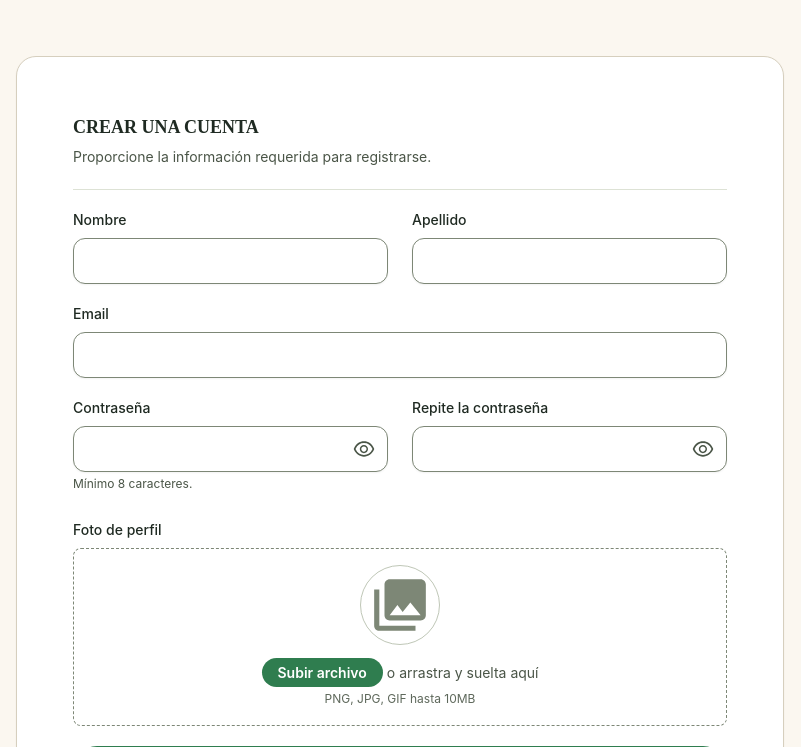
Test case: Registration › announces the fallback message for an unexpected error
The image size is (801, 747).
Step 1. Type "Ana" into the field labelled "Nombre" → (230, 261), box [73,238,388,284]
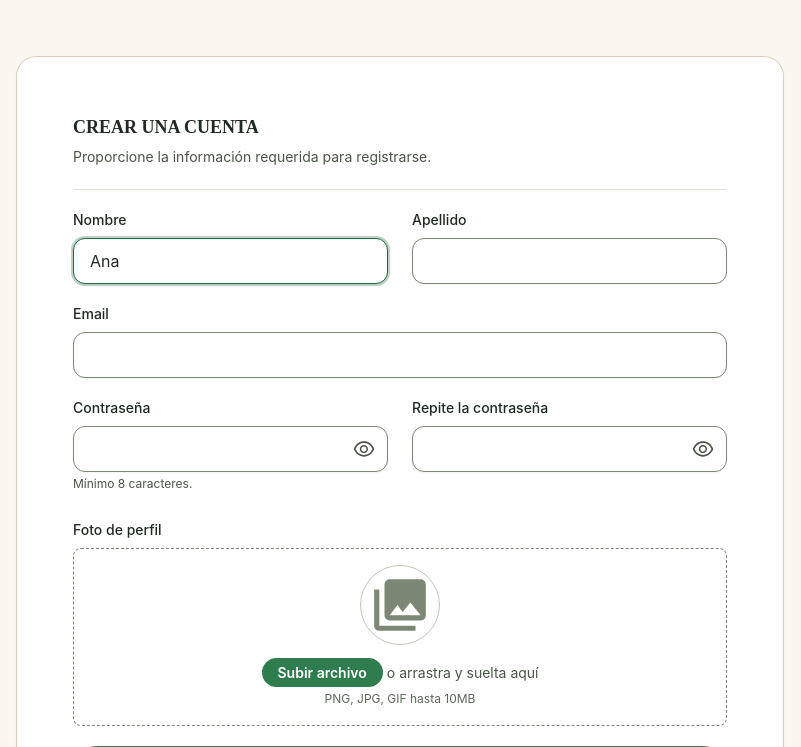
Step 2. Type "Pérez" into the field labelled "Apellido" → (570, 261), box [412,238,727,284]
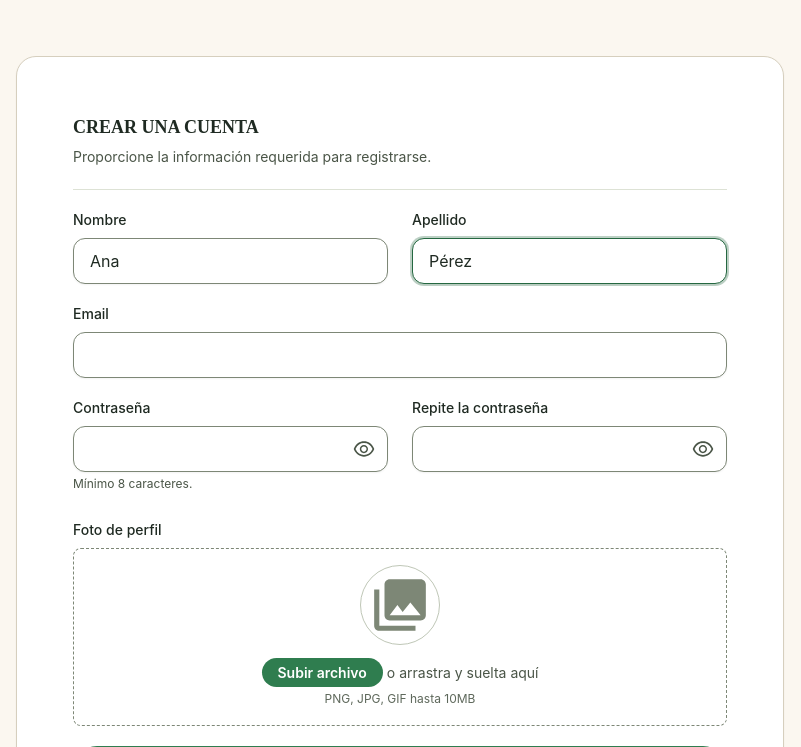
Step 3. Type "ana@example.com" into the field labelled "Email" → (400, 355), box [73,332,727,378]
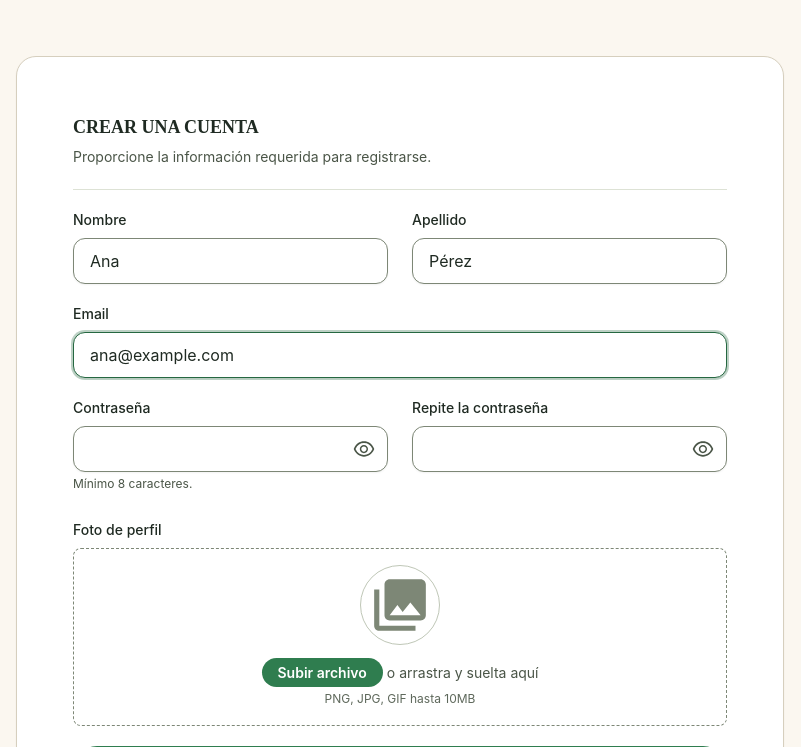
Step 4. Type "secret123" into the password field labelled "Contraseña" → (230, 449), box [73,426,388,472]
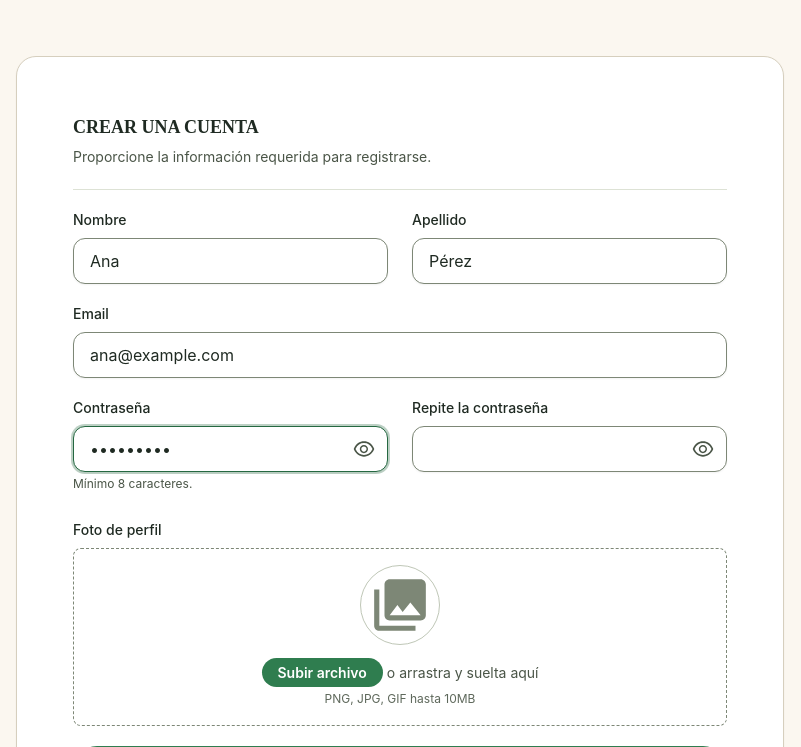
Step 5. Type "secret123" into the password field labelled "Repite la contraseña" → (570, 449), box [412,426,727,472]
(page scrolled)
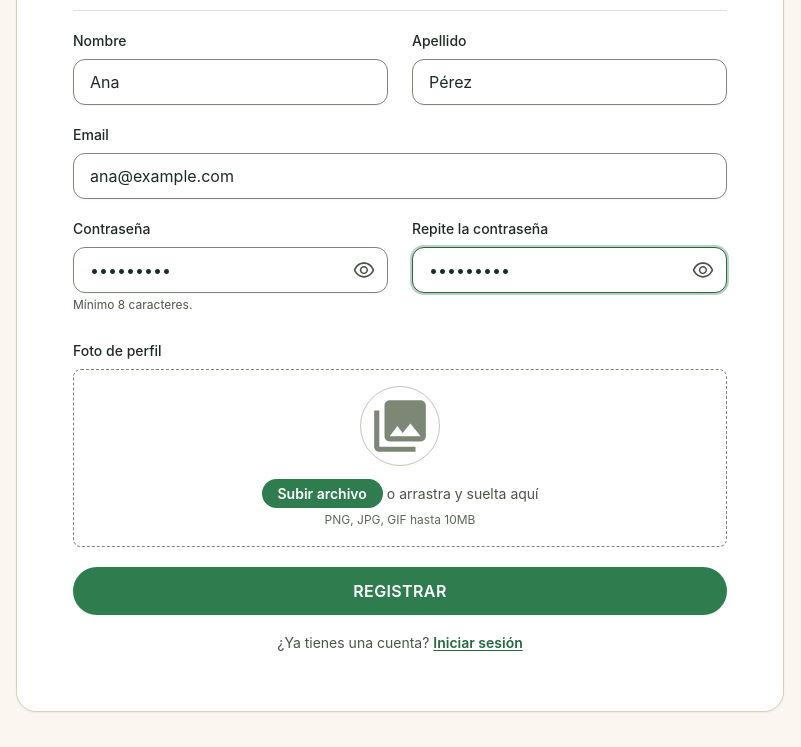
Step 6. Click the button "Registrar" → click(400, 591), box [73,567,727,615]
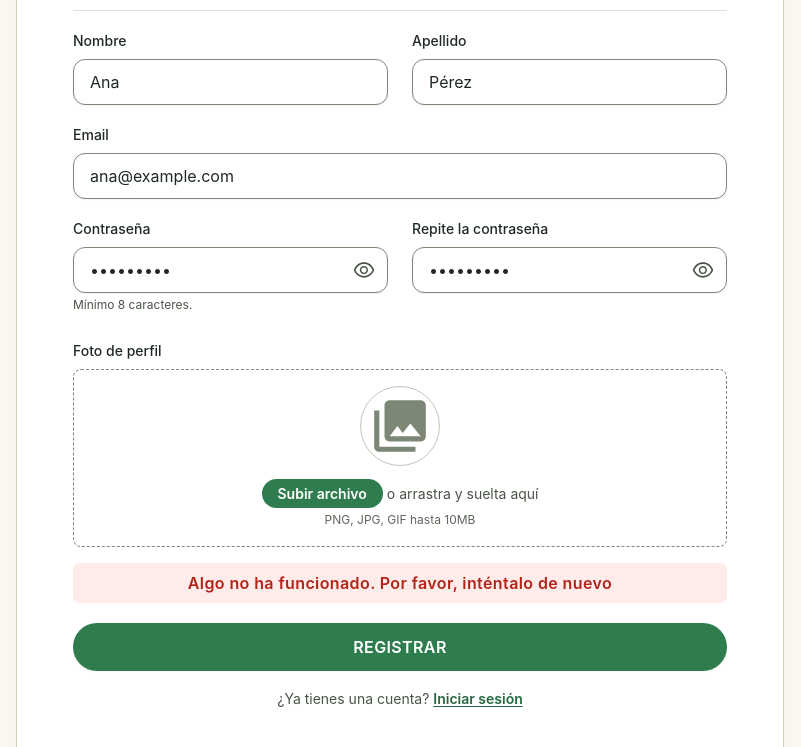
Check: the message shows "Algo no ha funcionado", box [188,573,612,593]
